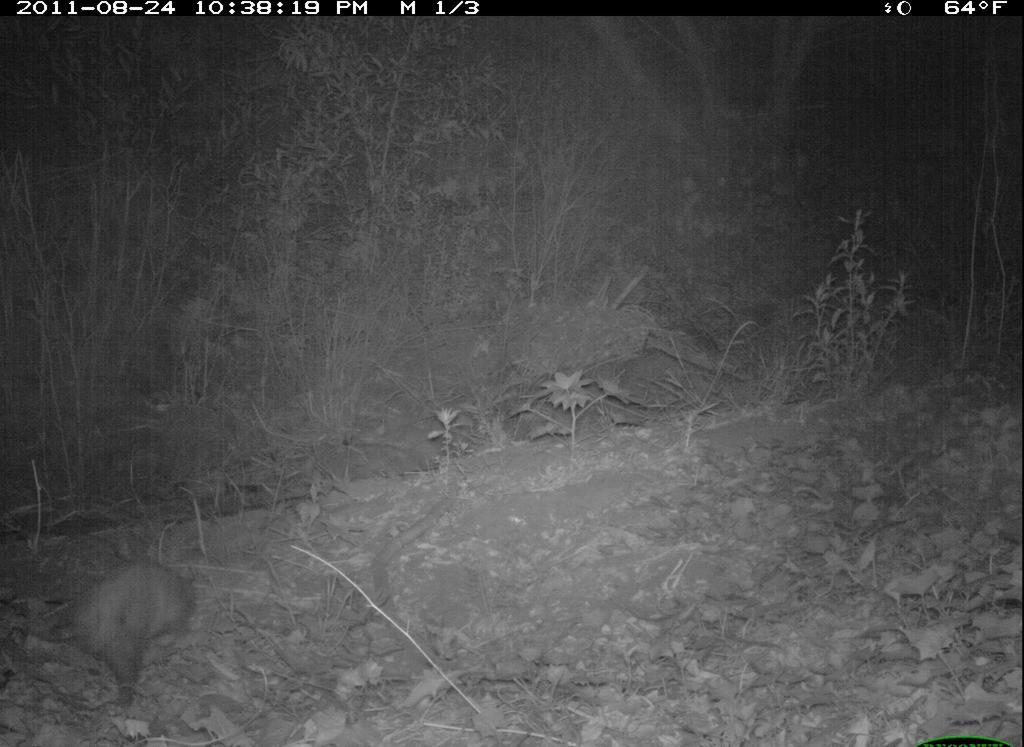opossum: (39, 557, 207, 707)
